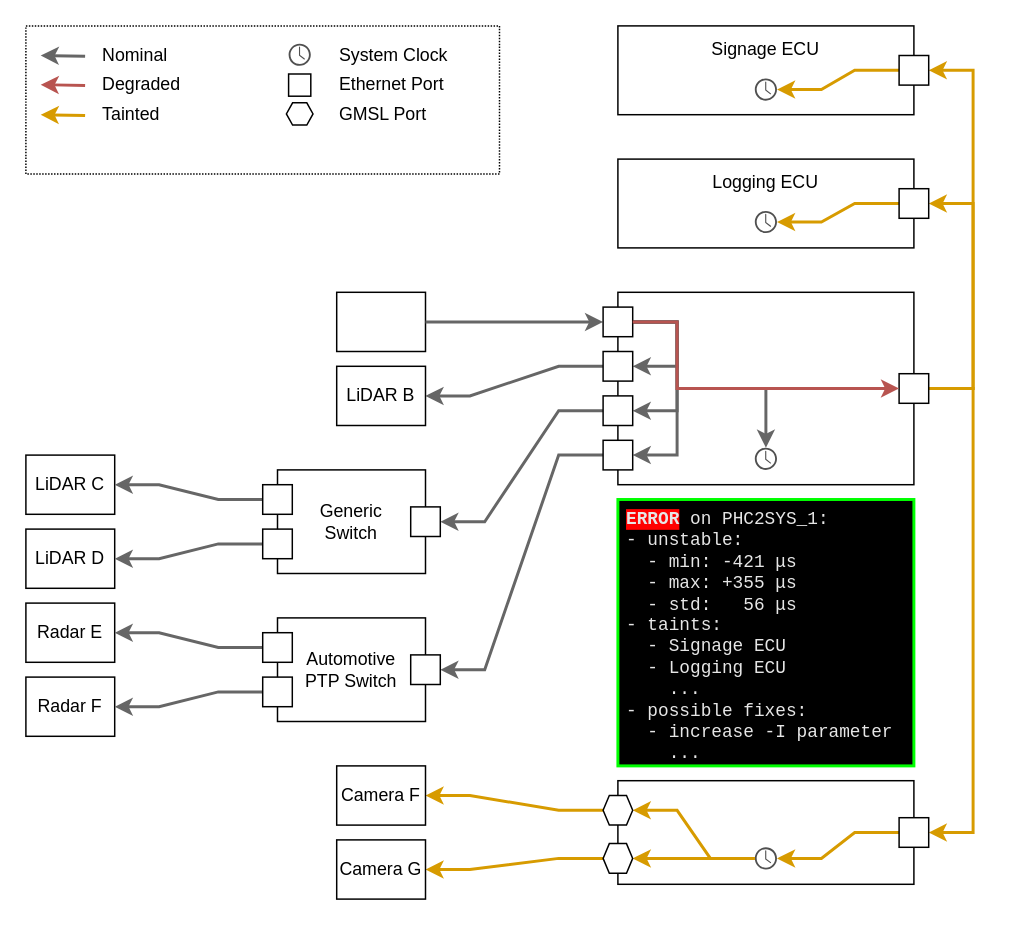
Some shapes in this 1012 by 925 pixel diagram are drawn without their labels. Here are the shapes that lost their labels. From the top down, the box of each, then its label:
(335, 291, 426, 352): GNSS A
(616, 291, 914, 485): Main ECU
(616, 779, 914, 884): Perception ECU
